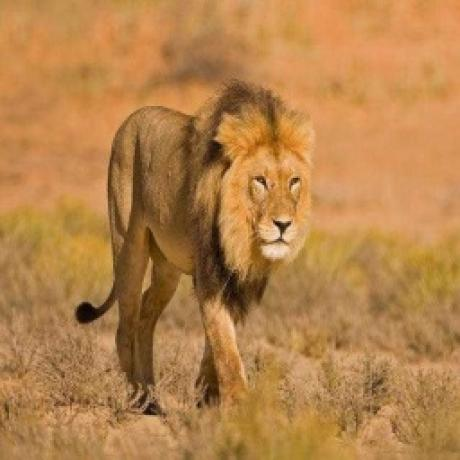Lion: (72, 82, 316, 403)
